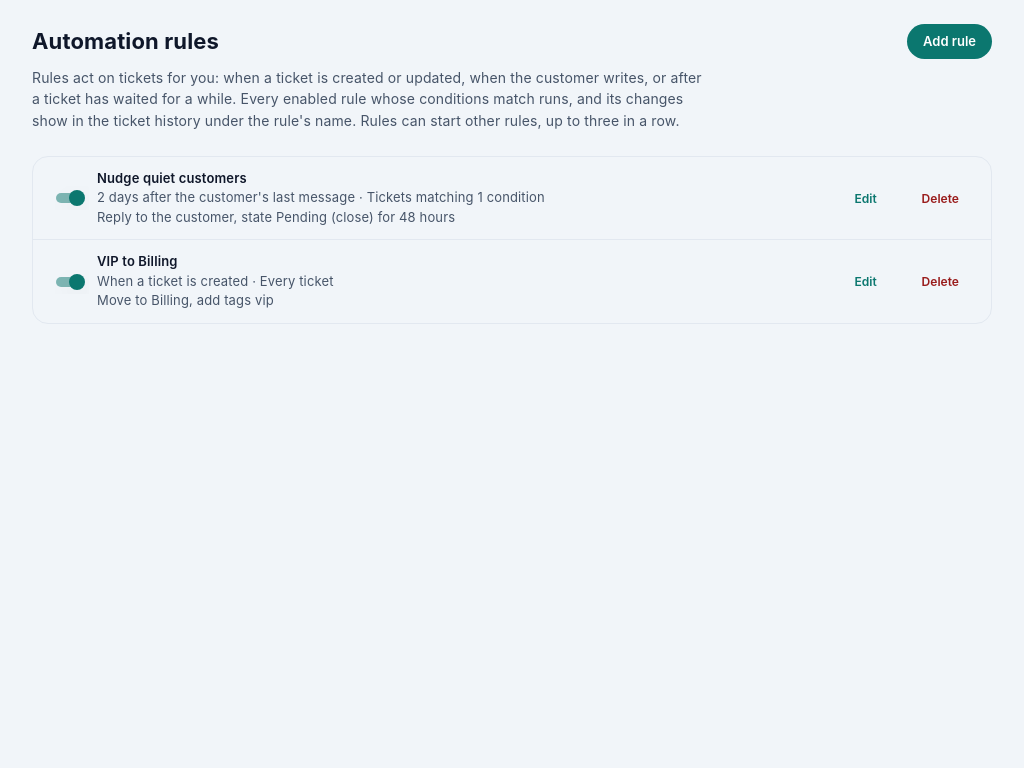
Test: AutomationRulesPage › puts API field errors on the matching field
Click the button with aria-label "Edit VIP to Billing" at (866, 282), box [834,267,898,296]
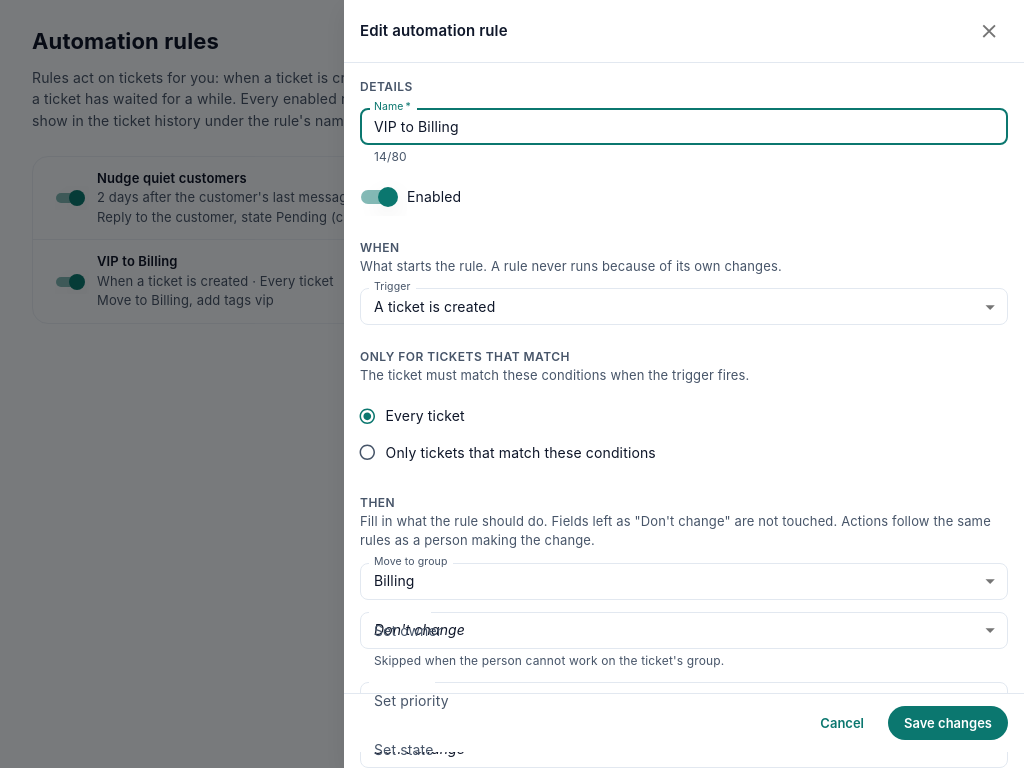
Click the button "Save changes" at (948, 723), box [888,705,1008,740]
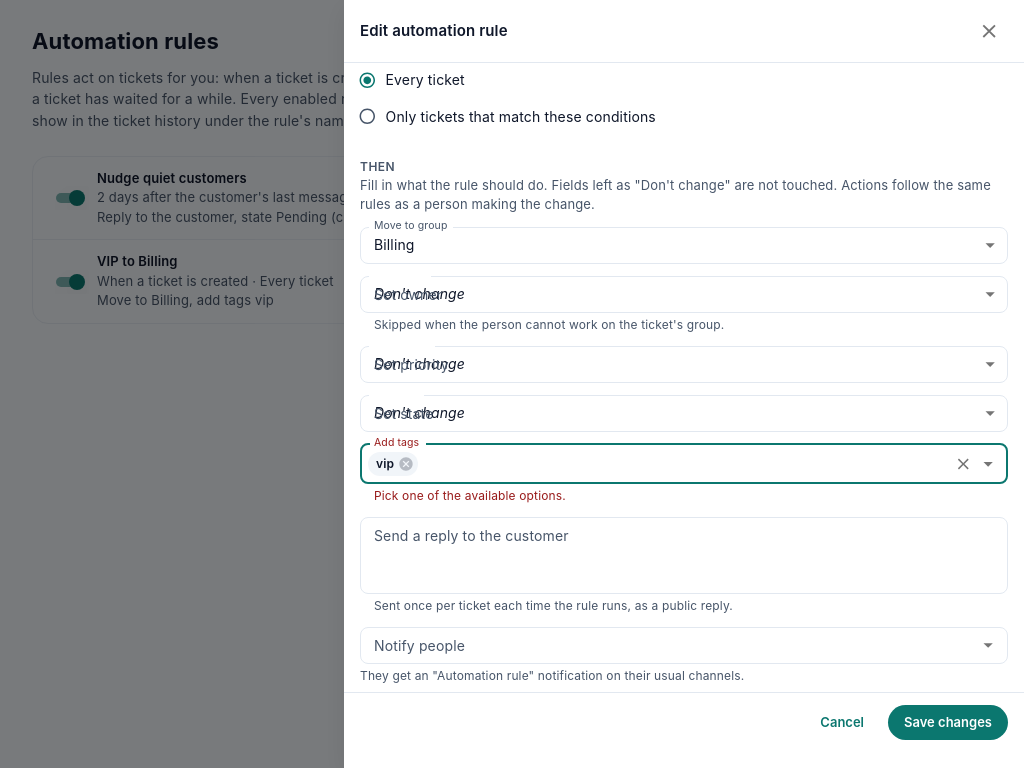
Result: the text "Pick one of the available options." is shown at [374,488,566,503]
